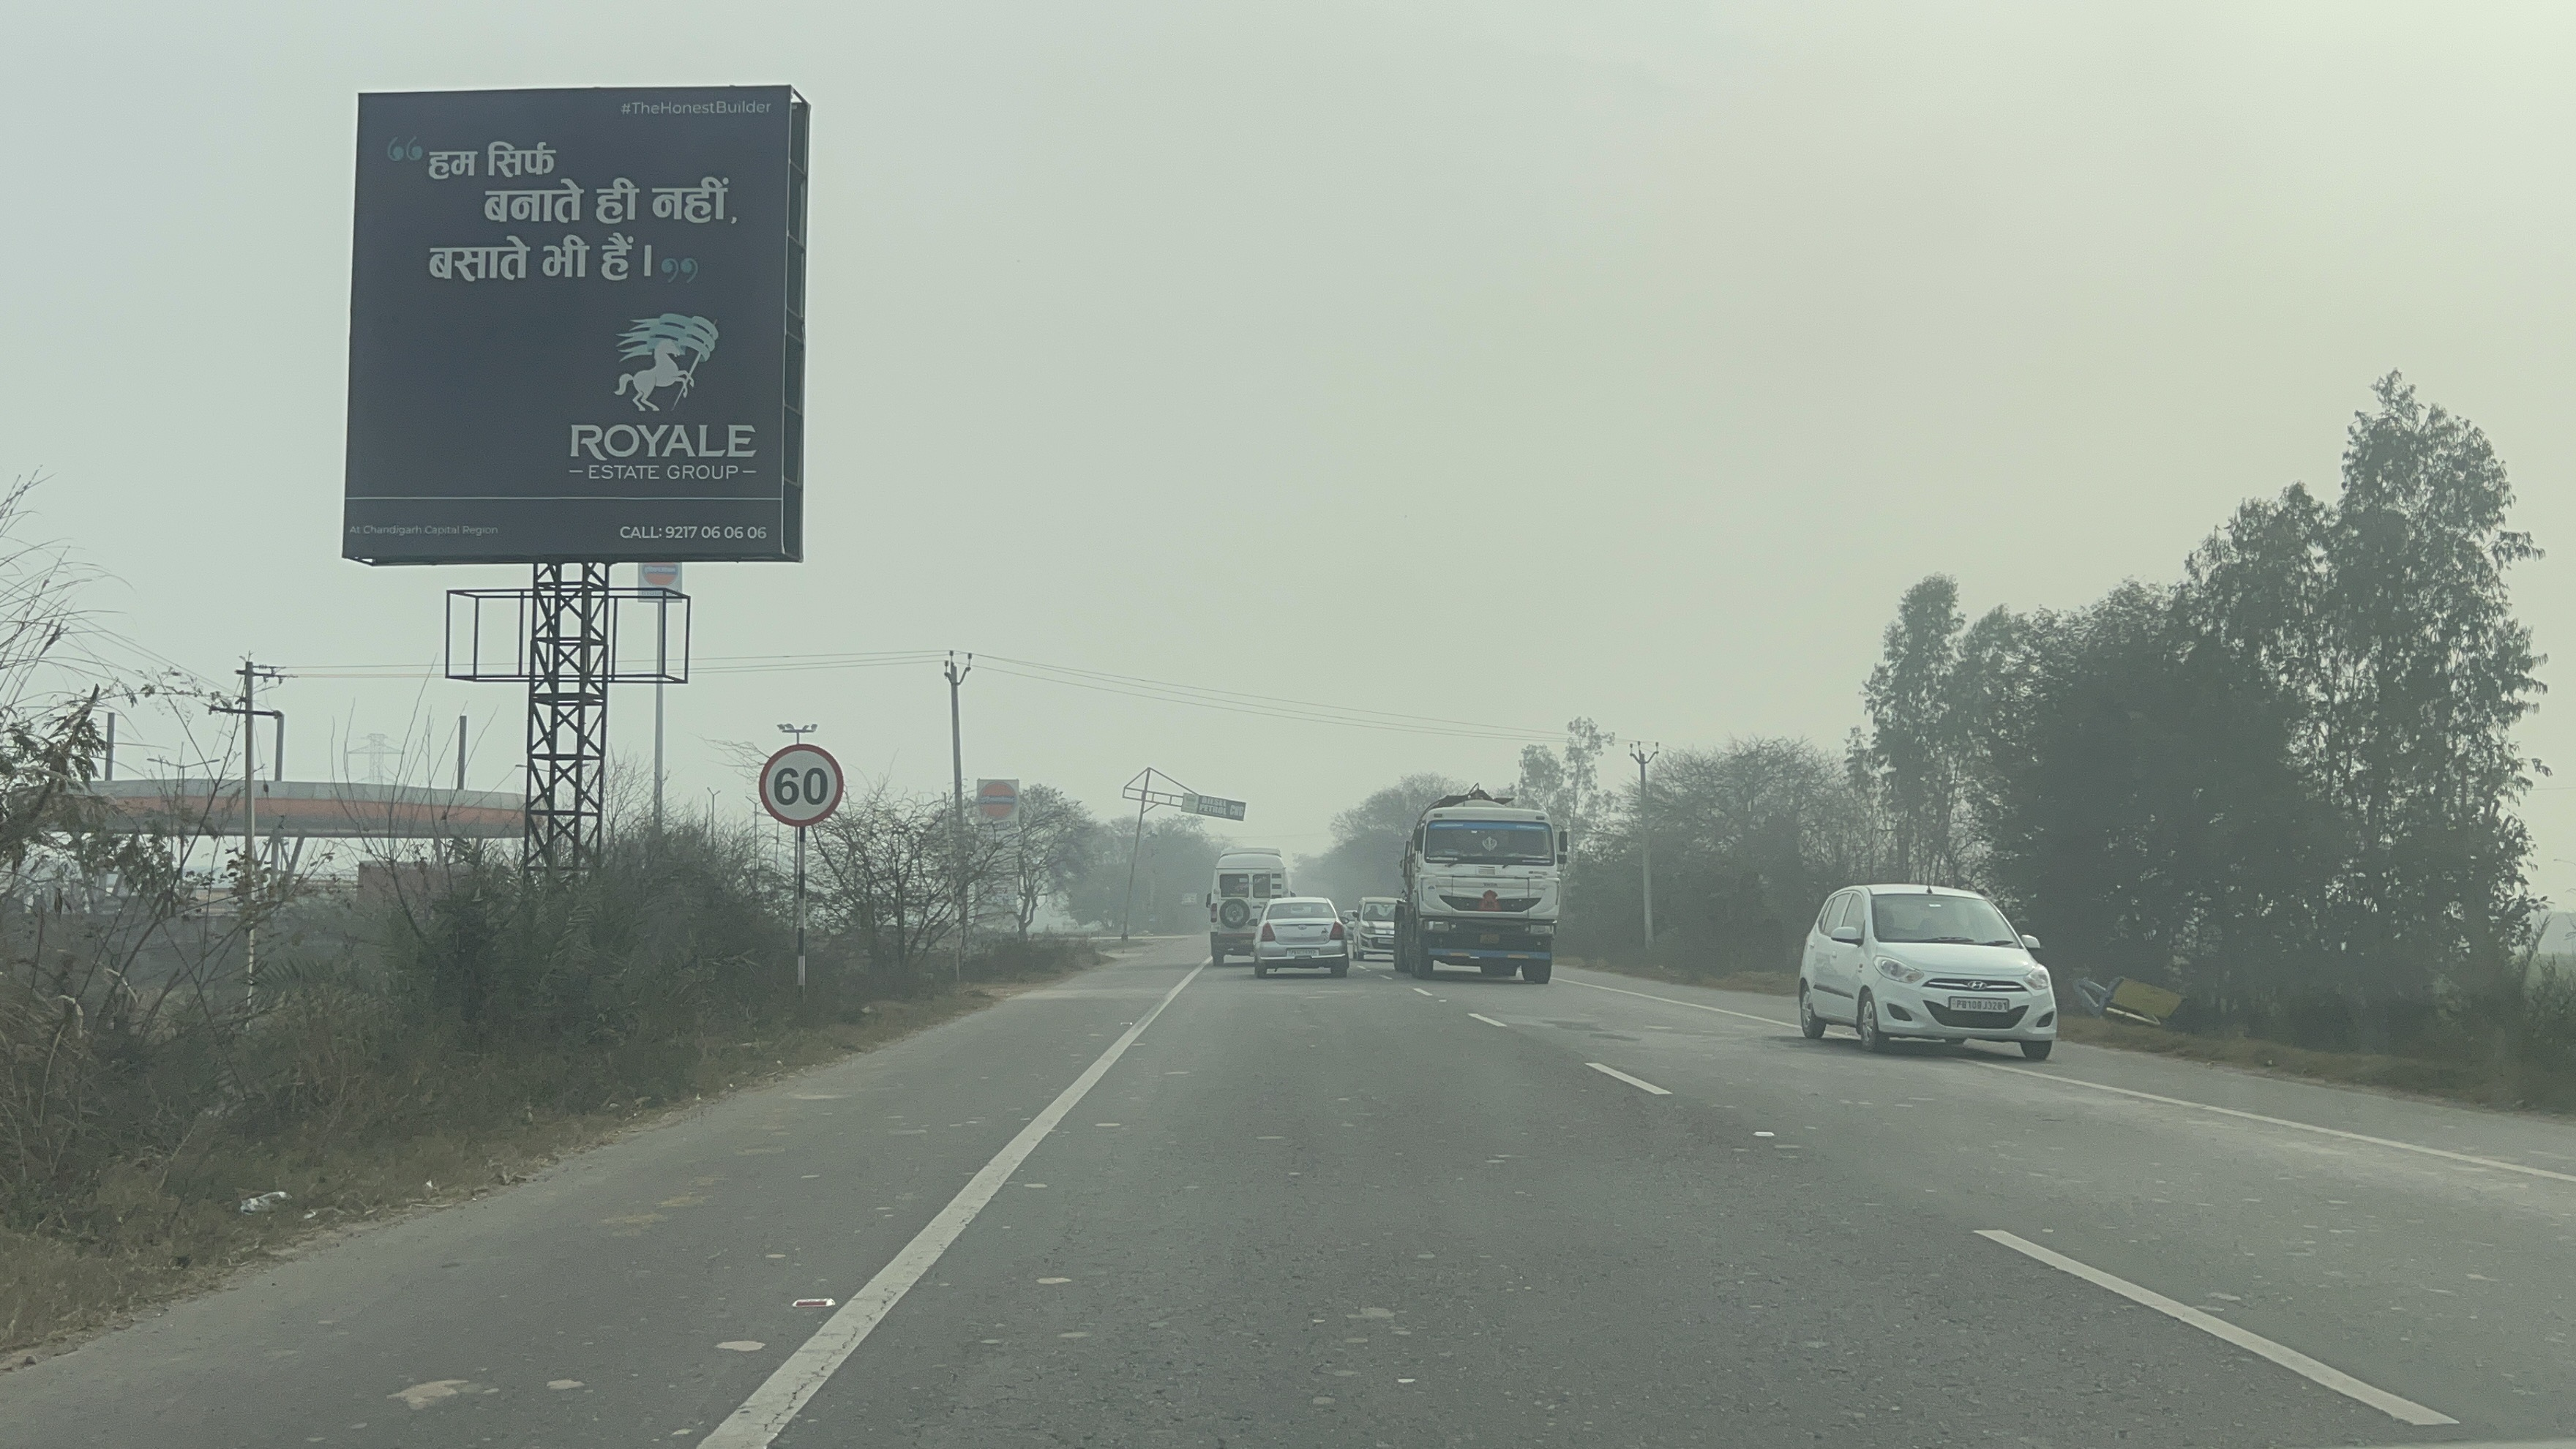Mandatory: (750, 734, 855, 833)
